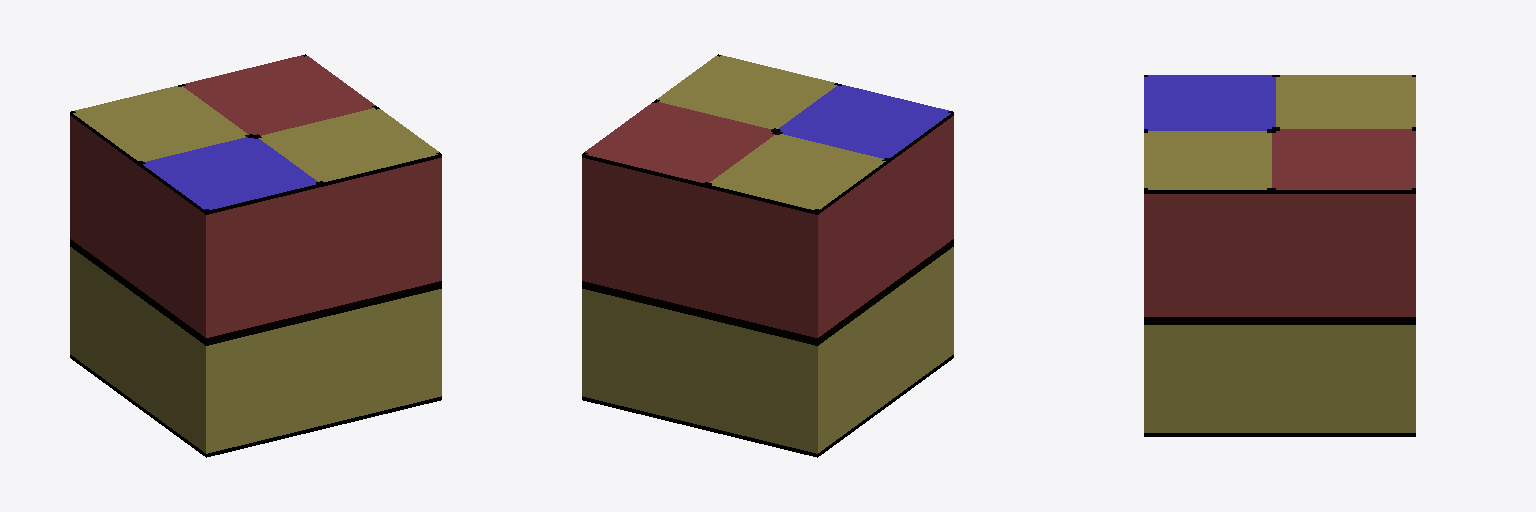
The picture shows the model from 3 angles: view 1: azimuth 30°, elevation 25°; view 2: azimuth 150°, elevation 25°; view 3: azimuth 270°, elevation 25°; orthographic projection.
Parts seen in each view (by area): view 1: Cube; view 2: Cube; view 3: Cube.
Boxes of the visible parts, <box> form: Cube: <box>70,54,441,457</box>; Cube: <box>582,54,953,457</box>; Cube: <box>1144,75,1415,436</box>.
Bounding box in the file's own units: 2 × 2 × 2.
1 materials, 1 textured.